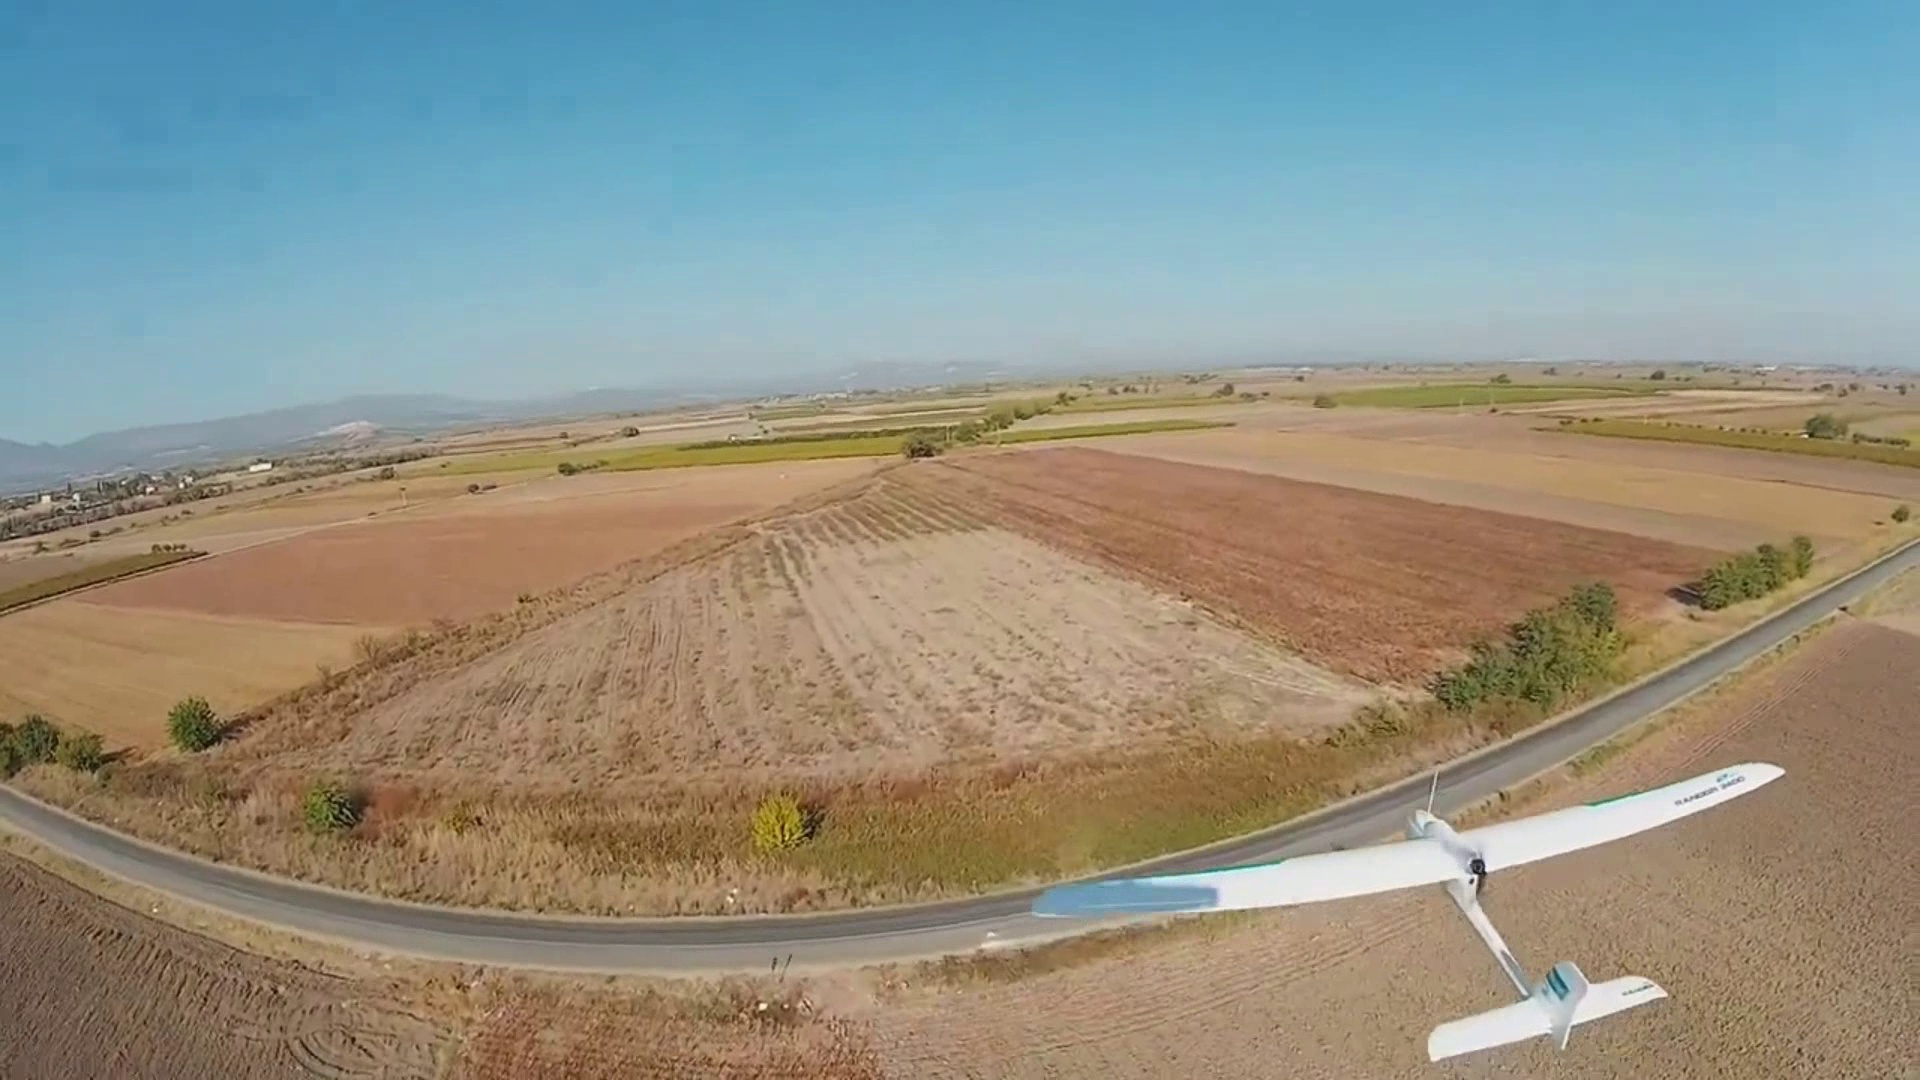airplane: (84, 526, 1913, 1065)
